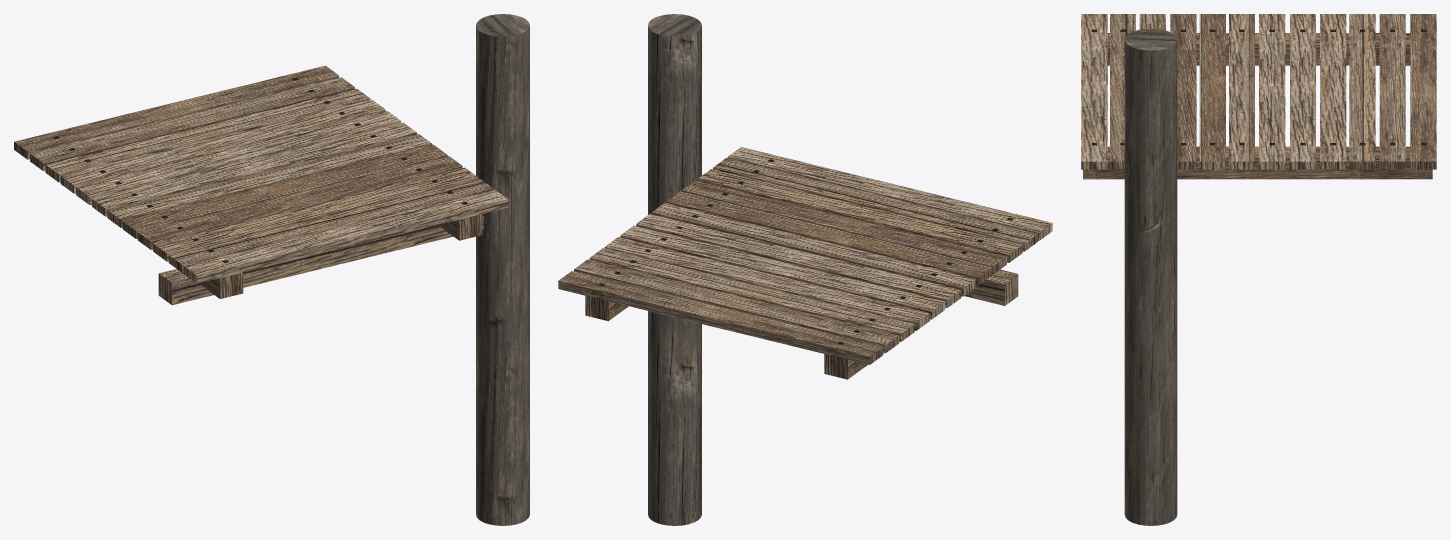
Rendered from Kit_plataforma_madera.fbx.
3 views of the same model, side by side, from view 1: azimuth 30°, elevation 25°; view 2: azimuth 150°, elevation 25°; view 3: azimuth 270°, elevation 25° (orthographic). The views are drawn at different scales.
Visible parts, largest first — view 1: Piso4x4, Cylinder, Columna6x0.3; view 2: Piso4x4, Cylinder, Columna6x0.3; view 3: Piso4x4, Cylinder.
Part boxes in pixels (x1,y1,x2,y2): Piso4x4: [14, 65, 508, 298]; Cylinder: [476, 14, 529, 525]; Columna6x0.3: [158, 214, 483, 305]; Piso4x4: [558, 147, 1052, 379]; Cylinder: [648, 14, 701, 525]; Columna6x0.3: [964, 269, 1018, 305]; Piso4x4: [1081, 14, 1436, 179]; Cylinder: [1124, 28, 1177, 525].
Bounding box in the file's own units: 469 × 600 × 407.
Materials: 3 (2 with a texture image).
